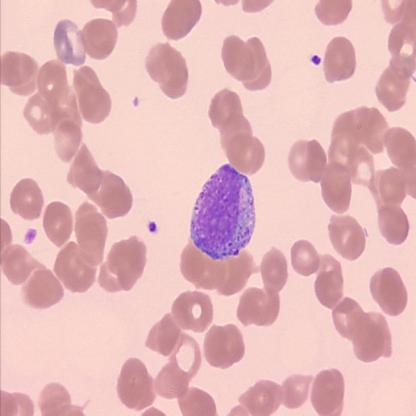Myelocyte: (190, 162, 255, 258)
